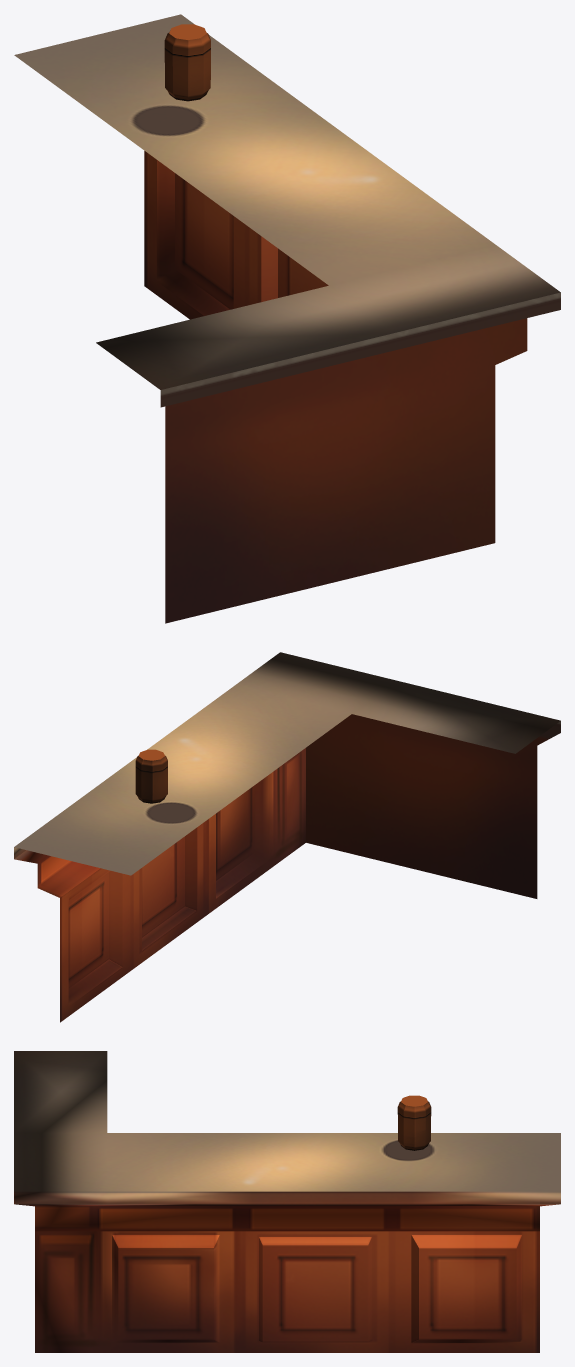
Rendered from Tx_props_judge_table_8.fbx.
3 renders of one model, top to bottom at view 1: azimuth 30°, elevation 25°; view 2: azimuth 150°, elevation 25°; view 3: azimuth 270°, elevation 25°, orthographic. The views are drawn at different scales.
Visible parts, largest first — view 1: Tx_props_judge_table1; view 2: Tx_props_judge_table1; view 3: Tx_props_judge_table1.
Part boxes in pixels (x1,y1,x2,y2): Tx_props_judge_table1: [14, 14, 560, 623]; Tx_props_judge_table1: [14, 652, 560, 1022]; Tx_props_judge_table1: [14, 1051, 560, 1352].
Bounding box in the file's own units: 7.8 × 6.12 × 12.82.
